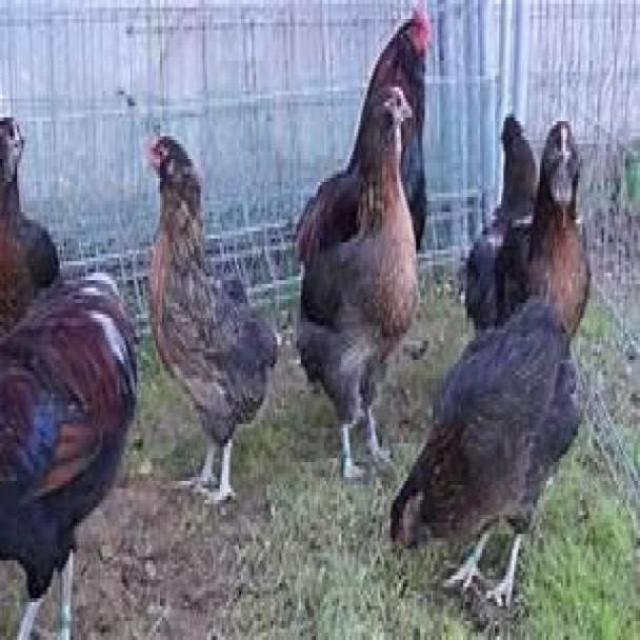Chicken: (391, 295, 585, 606), (0, 268, 139, 640), (145, 133, 280, 508), (297, 83, 416, 481), (348, 8, 433, 254), (495, 121, 593, 333), (459, 114, 540, 330), (0, 117, 62, 337)
